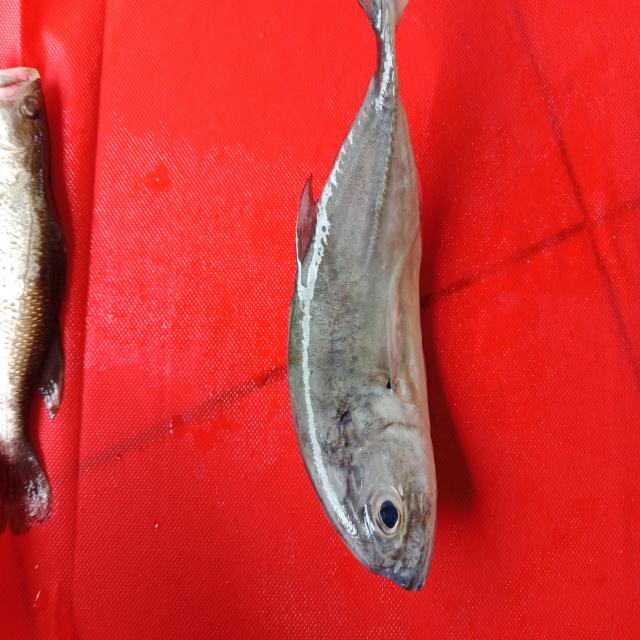ikan: (286, 0, 439, 592), (0, 65, 68, 535)
